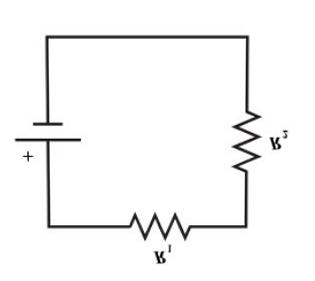resistor: (223, 91, 268, 187), (118, 198, 210, 239)
